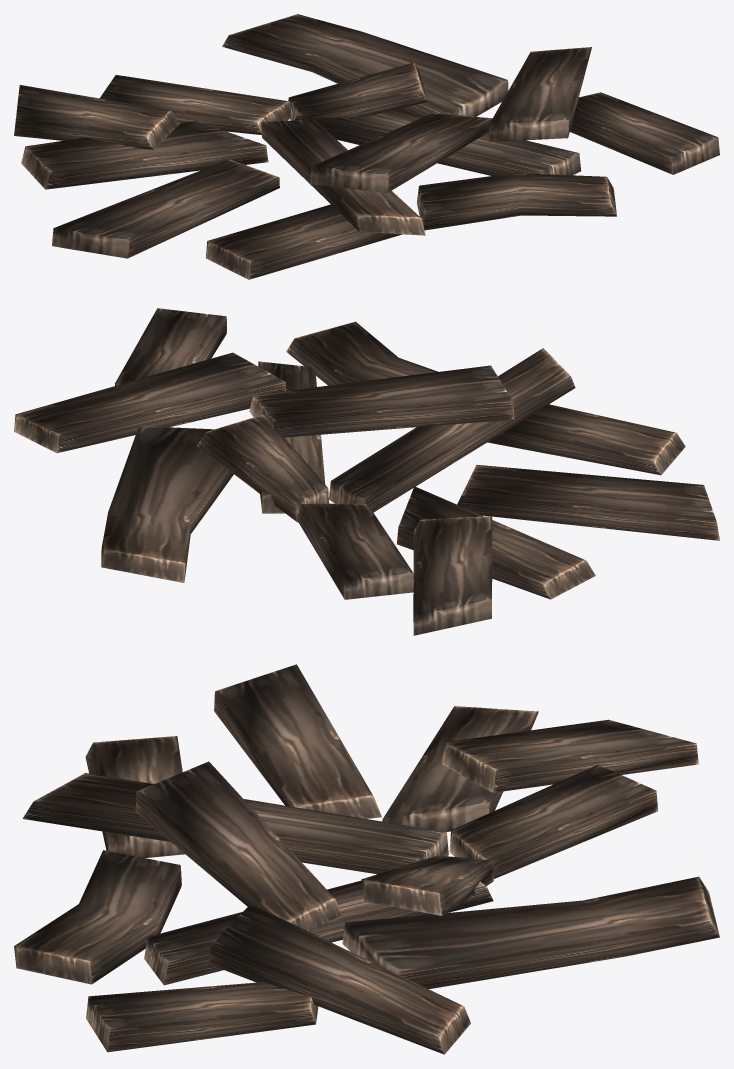
The model's file is darkironwoodplanks04.obj.
The picture shows the model from 3 angles, top to bottom: view 1: azimuth 30°, elevation 25°; view 2: azimuth 150°, elevation 25°; view 3: azimuth 270°, elevation 25°; orthographic projection. The views are drawn at different scales.
Visible parts, largest first — view 1: darkironwoodplanks04; view 2: darkironwoodplanks04; view 3: darkironwoodplanks04.
Boxes of the visible parts, bbox=[...] form: darkironwoodplanks04: bbox=[14, 14, 719, 279]; darkironwoodplanks04: bbox=[14, 308, 719, 635]; darkironwoodplanks04: bbox=[14, 664, 719, 1054].
Bounding box in the file's own units: 8.38 × 0.726 × 6.77.
